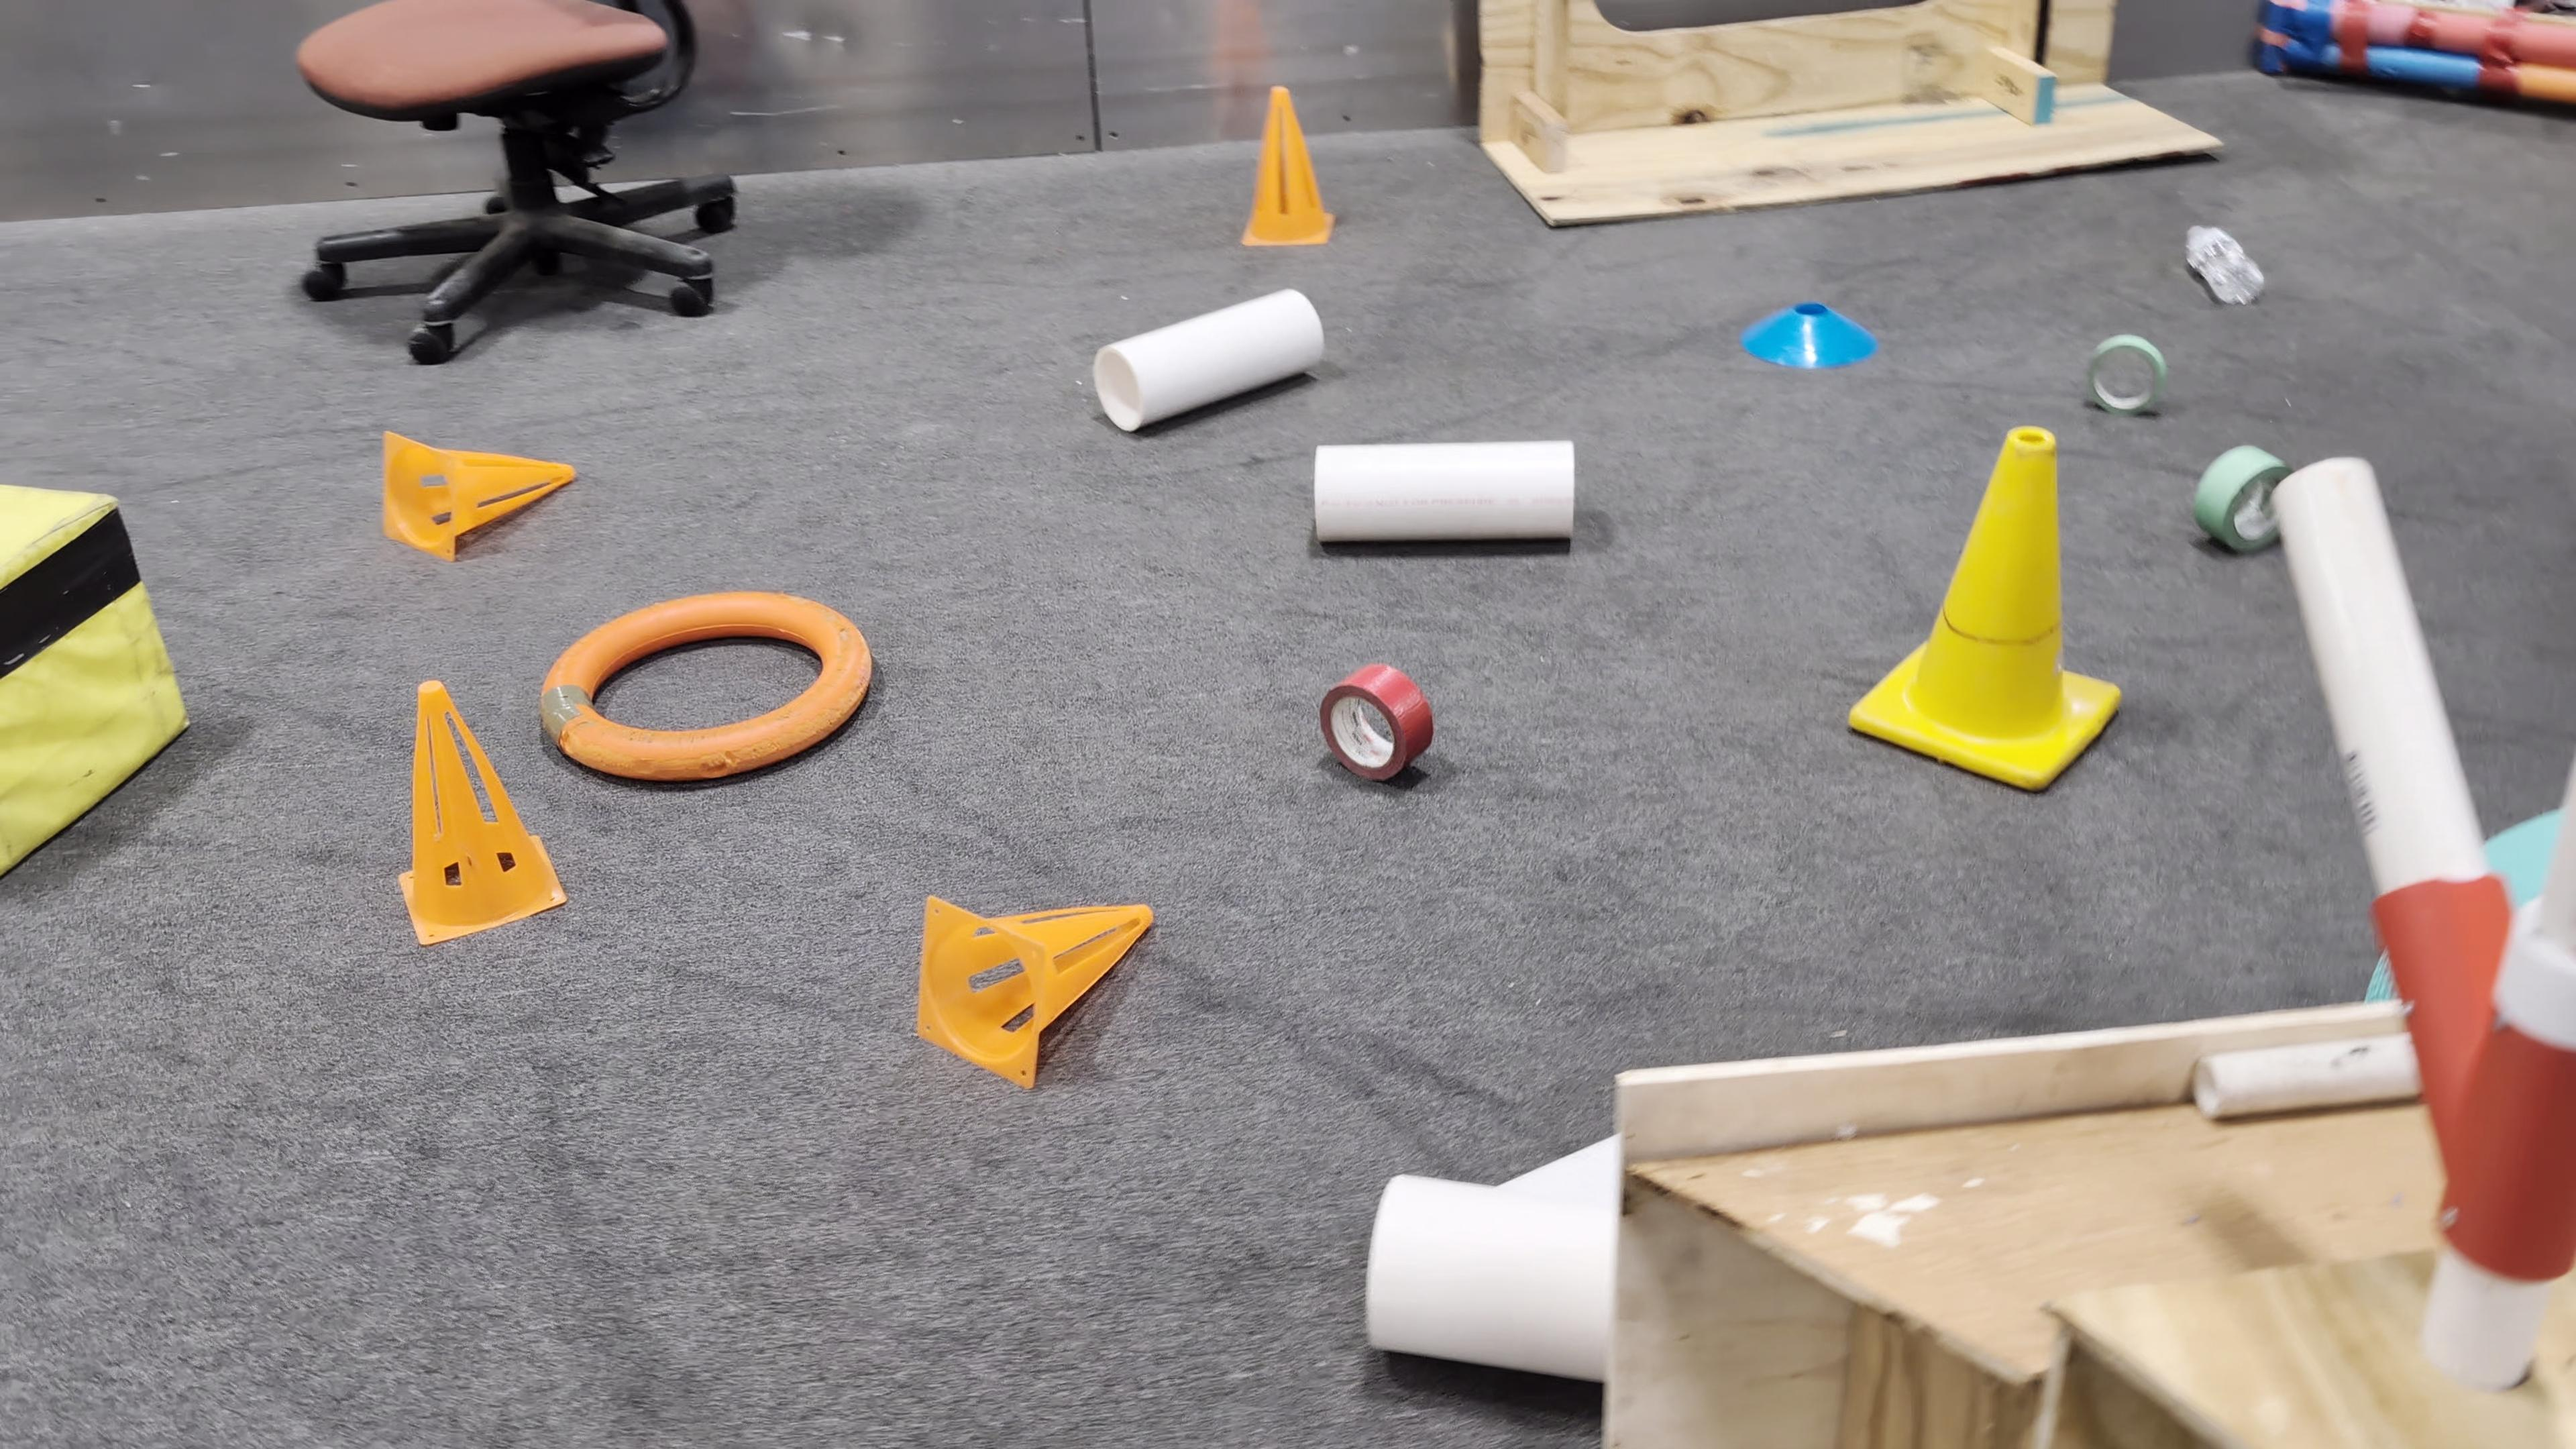coral: (1092, 285, 1327, 432), (1313, 435, 1575, 543)
